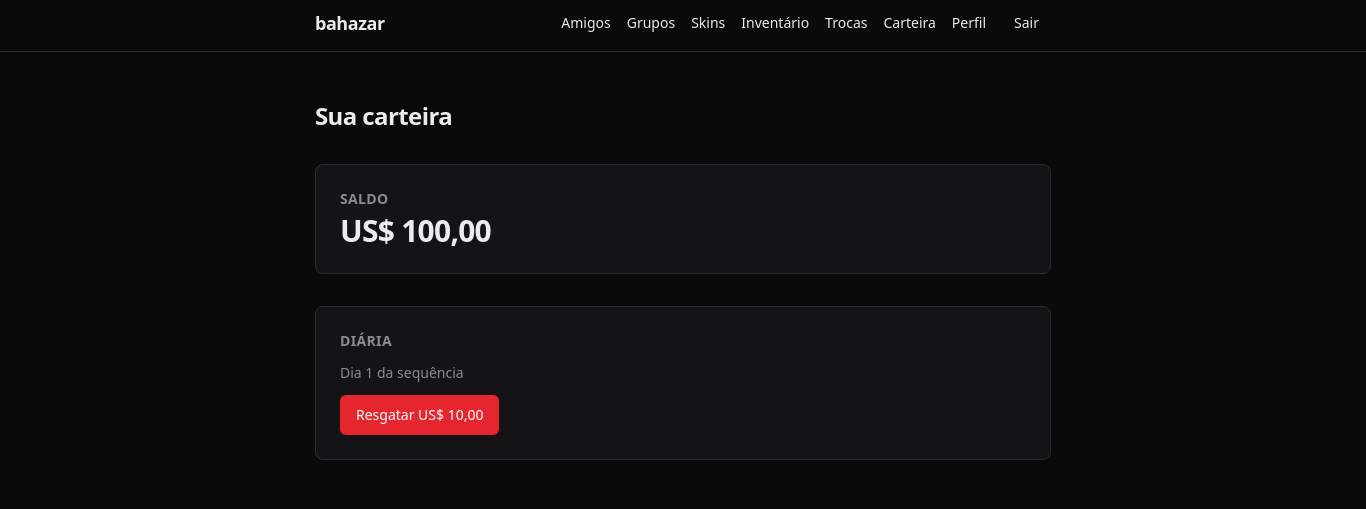
Scenario: WalletPage › erro inesperado no resgate mostra mensagem própria, nunca o texto do servidor
The width and height of the screenshot is (1366, 509).
Click the button "Resgatar US$ 10,00". click: {"x": 420, "y": 415}
box: [340,395,500,435]
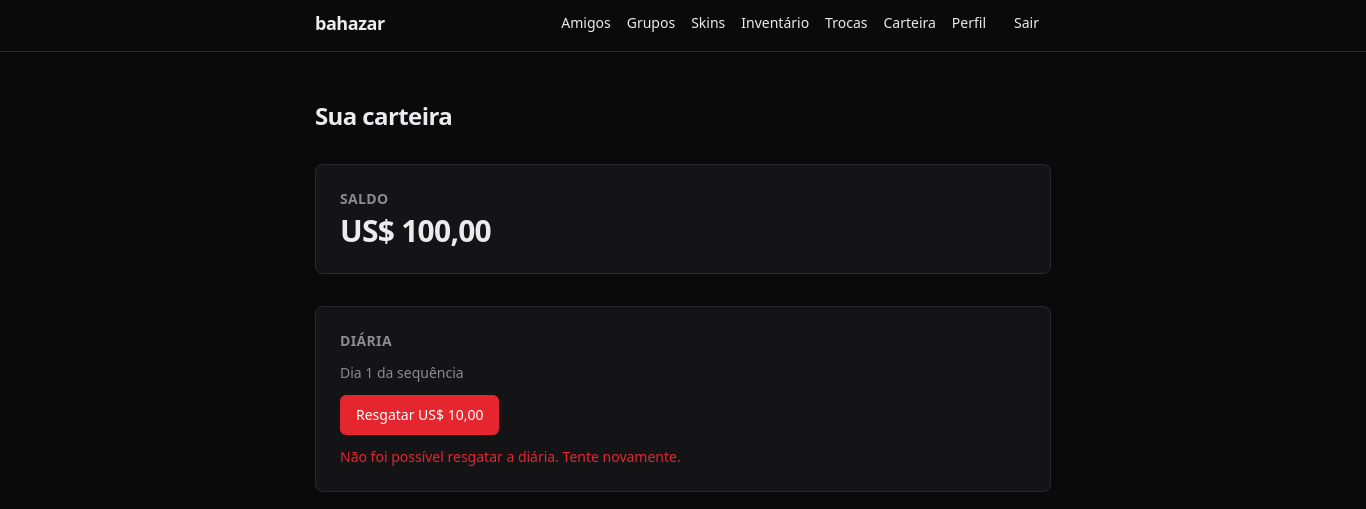
Expected: the message does not show "Traceback", [340,447,681,466]
Now the message reads "Não foi possível resgatar a diária. Tente novamente.", box [340,447,681,466]
